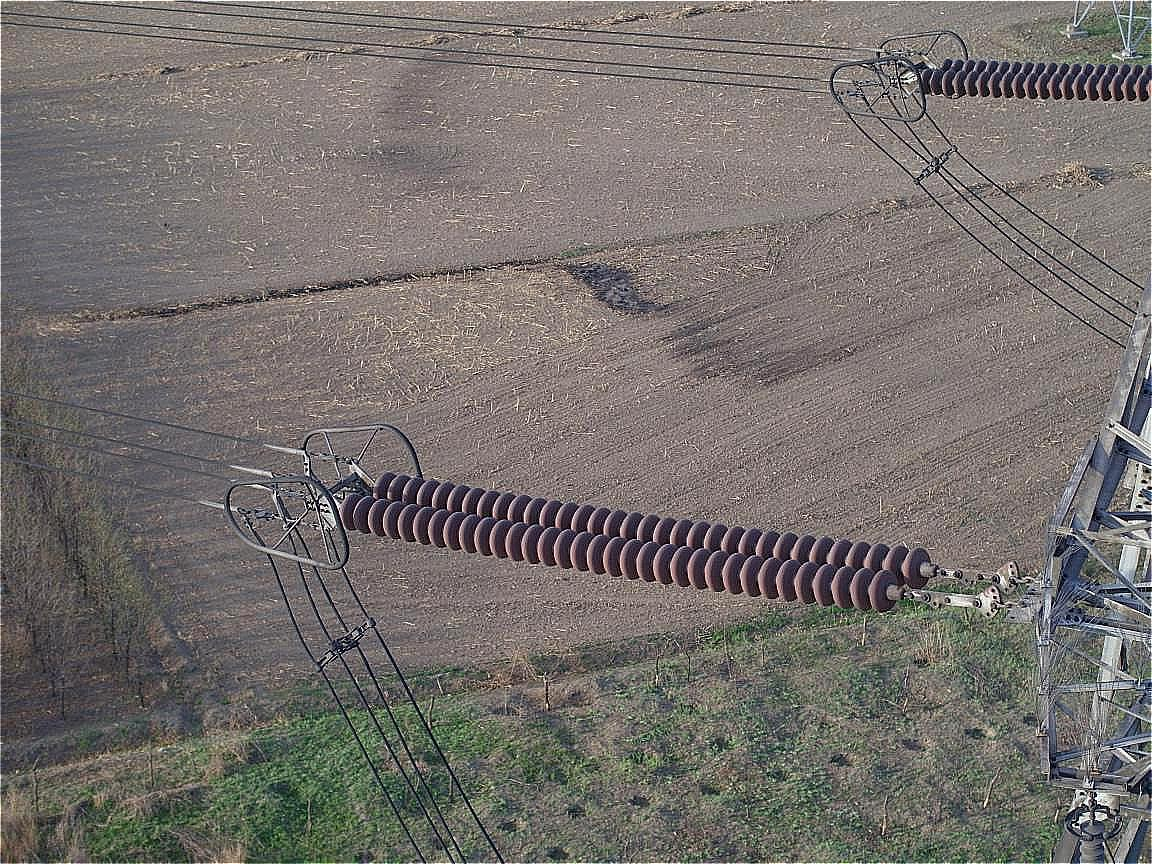insultor1: (318, 451, 945, 633), (906, 36, 1152, 116)
